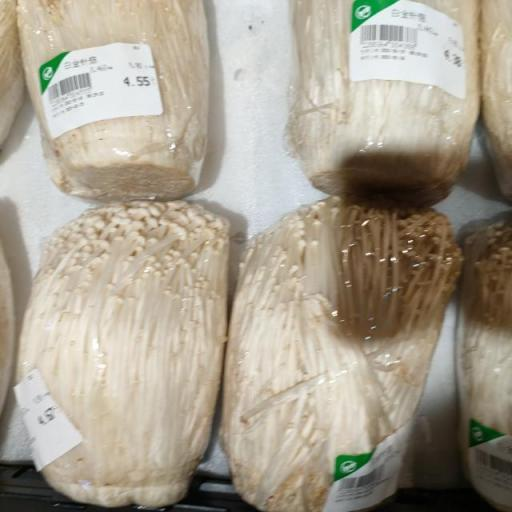Enoki Mushroom: (231, 198, 460, 512), (19, 198, 230, 508), (466, 215, 512, 498)
